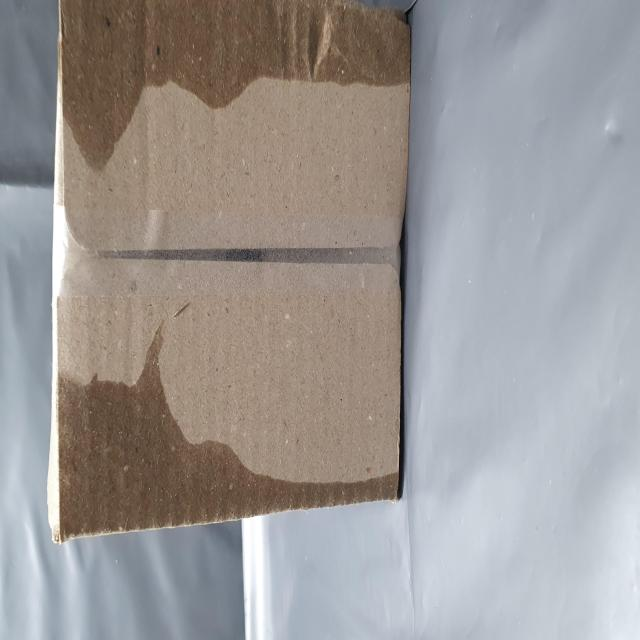wet: (63, 93, 178, 640), (269, 104, 360, 640)
